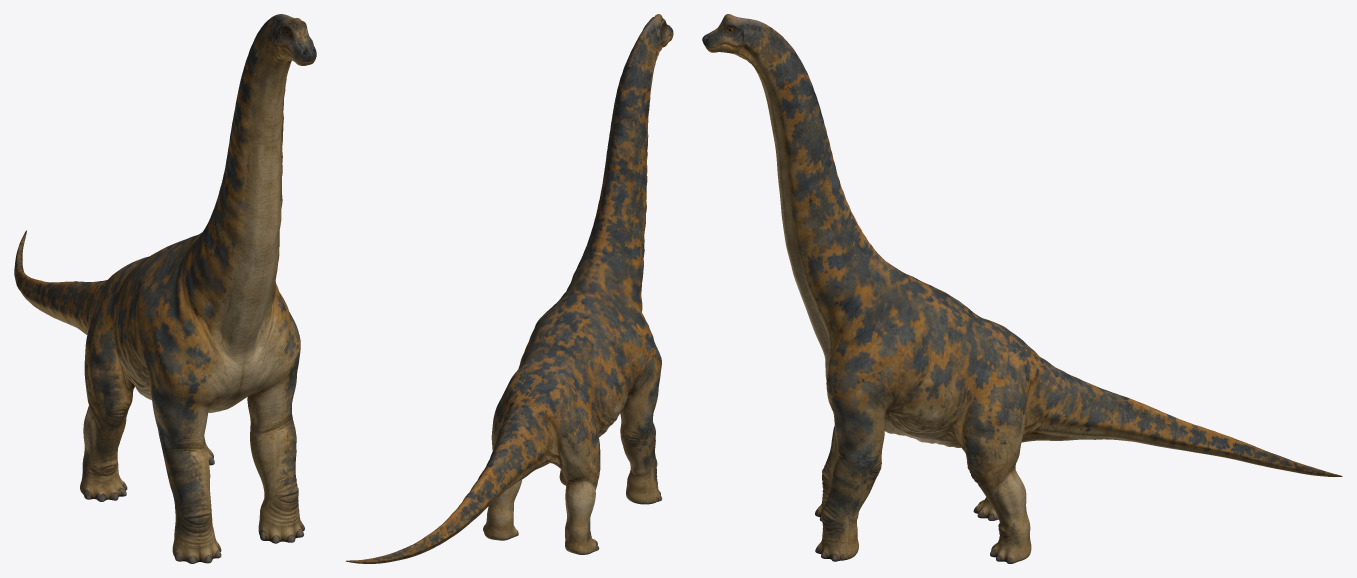
Rendered from brachiosaurus.glb.
3 renders of one model, left to right at view 1: azimuth 30°, elevation 25°; view 2: azimuth 150°, elevation 25°; view 3: azimuth 270°, elevation 25°, orthographic. The views are drawn at different scales.
Parts seen in each view (by area): view 1: brachiosaurus; view 2: brachiosaurus; view 3: brachiosaurus.
Boxes of the visible parts, box(x1,y1,x2,y2) form: brachiosaurus: box(14, 14, 316, 563); brachiosaurus: box(345, 14, 673, 563); brachiosaurus: box(702, 14, 1342, 563).
Size of the model in its own units: 3.09 by 11.97 by 13.4.
1 material, 1 textured.
